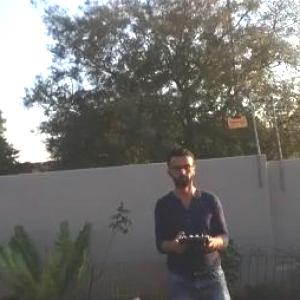follow: (150, 146, 239, 299)
